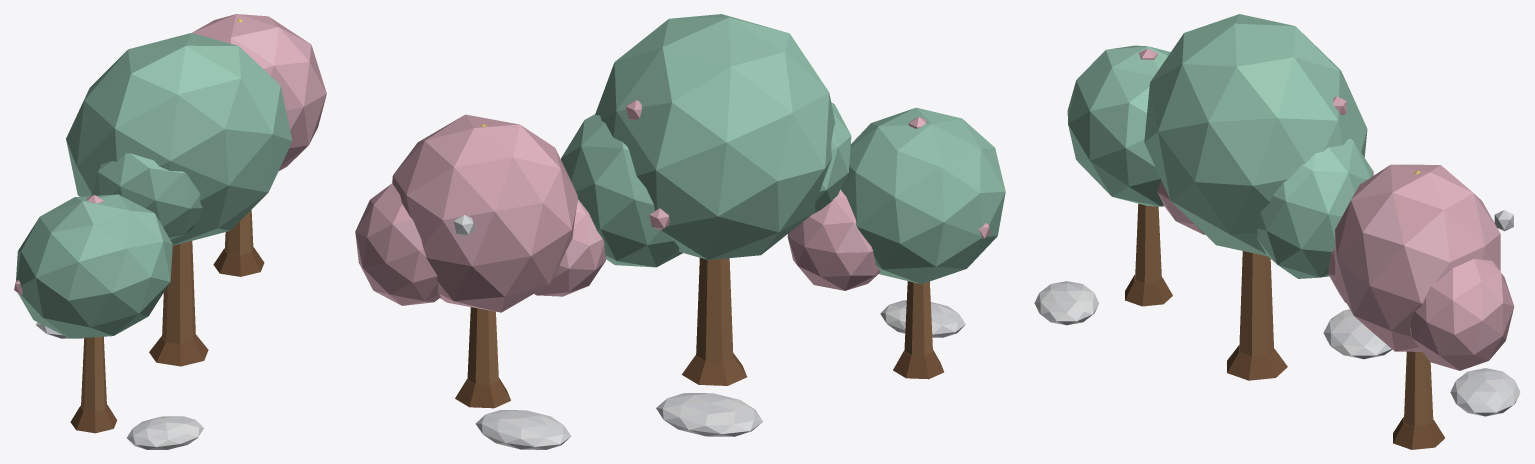
The model's file is Decor_CloudTemple_CloudTrees.fbx.
3 views of the same model, side by side, from view 1: azimuth 30°, elevation 25°; view 2: azimuth 150°, elevation 25°; view 3: azimuth 270°, elevation 25° (orthographic). The views are drawn at different scales.
Visible parts, largest first — view 1: CloudTrees_Body; view 2: CloudTrees_Body; view 3: CloudTrees_Body.
Part boxes in pixels (left/top/right/bottom): CloudTrees_Body: left=14, top=14, right=326, bottom=449; CloudTrees_Body: left=355, top=14, right=1005, bottom=449; CloudTrees_Body: left=1034, top=14, right=1520, bottom=449.
Size of the model in its own units: 18.7 by 13 by 16.7.
